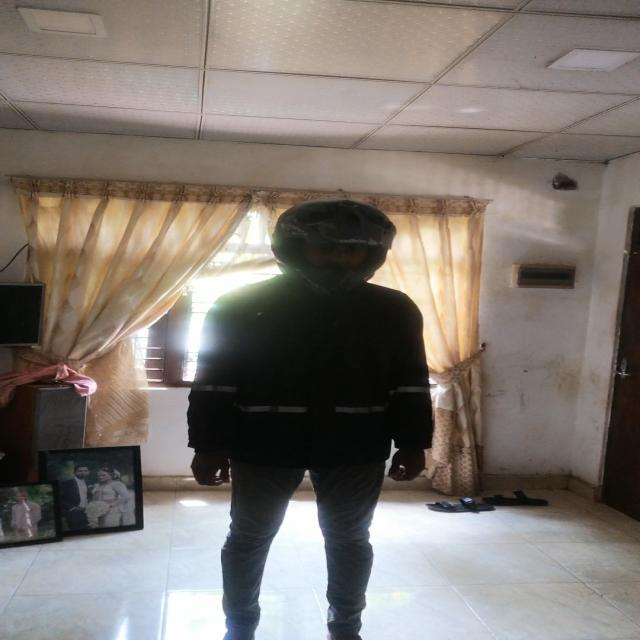Helmet_Wearer: (244, 204, 402, 293)
Jacket_Wearer: (184, 284, 432, 496)
Person: (185, 201, 429, 640)
